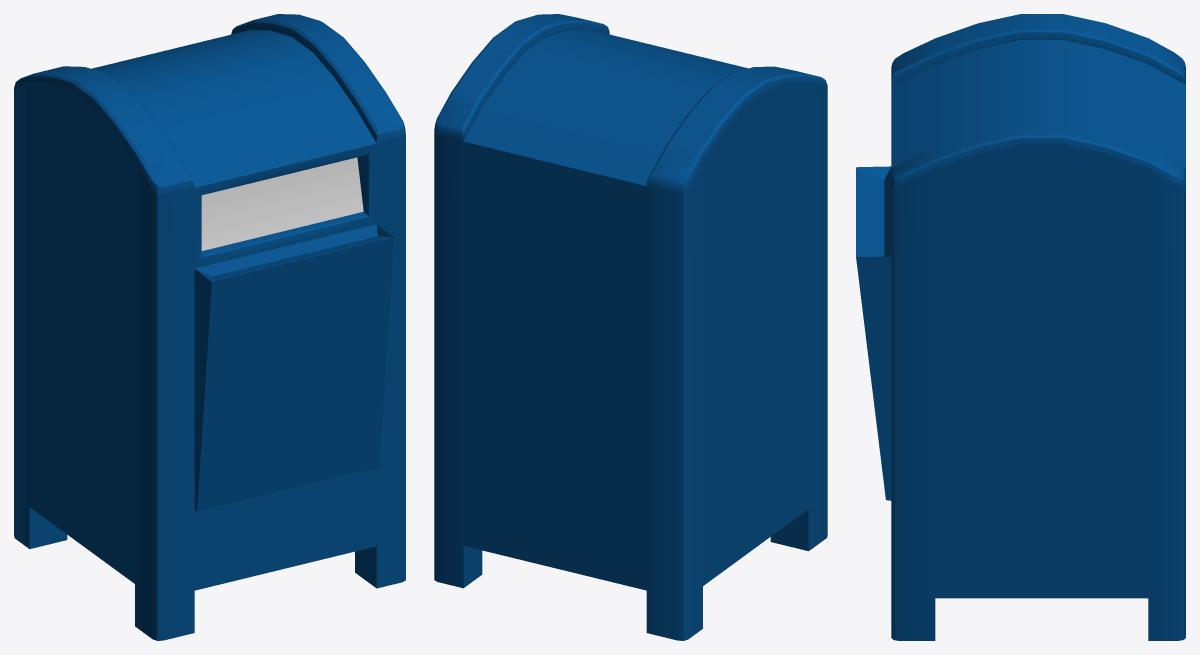
File: Buzon_Original1.fbx
3 renders of one model, left to right at view 1: azimuth 30°, elevation 25°; view 2: azimuth 150°, elevation 25°; view 3: azimuth 270°, elevation 25°, orthographic.
Parts seen in each view (by area): view 1: Buzon; view 2: Buzon; view 3: Buzon.
Part boxes in pixels (x1,y1,x2,y2): Buzon: (14, 14, 405, 640); Buzon: (434, 14, 827, 640); Buzon: (856, 14, 1185, 640).
Size of the model in its own units: 6.18 by 11.66 by 6.91.
